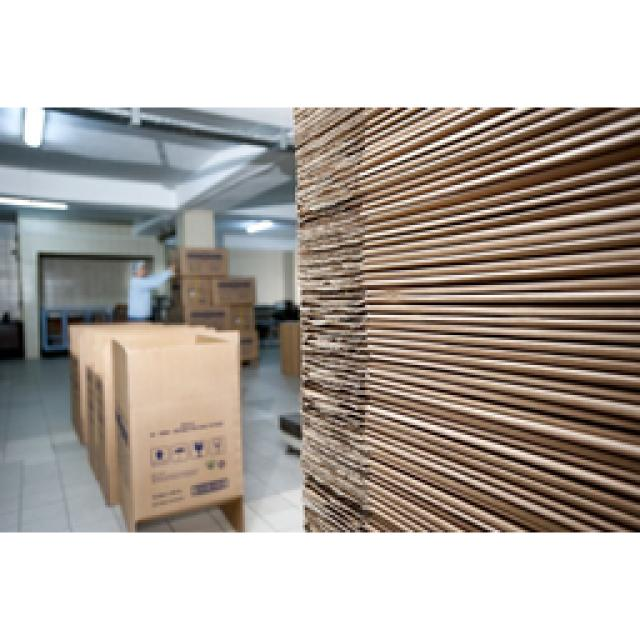cardboard: (278, 108, 638, 530), (70, 248, 255, 530)
